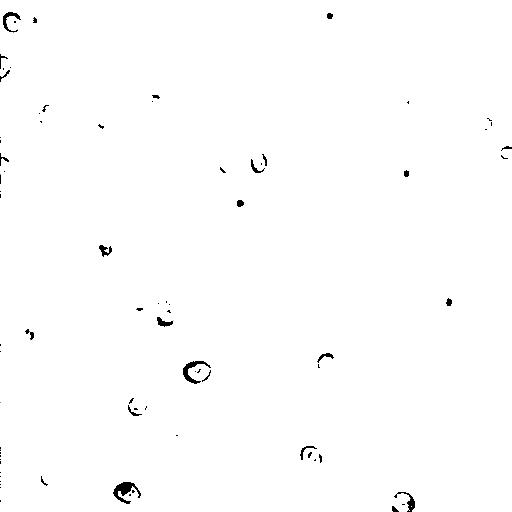micro-algae: (176, 318, 261, 401), (74, 143, 142, 211), (229, 348, 284, 402), (357, 249, 400, 292), (218, 128, 262, 167), (94, 376, 135, 415), (217, 475, 256, 512), (94, 396, 133, 430), (460, 266, 494, 304), (482, 471, 512, 512), (118, 297, 156, 328), (107, 471, 143, 503), (32, 99, 65, 133), (1, 145, 26, 188), (21, 10, 50, 42), (435, 283, 465, 313), (394, 309, 427, 336), (484, 7, 512, 38), (92, 108, 121, 137), (181, 360, 213, 385), (46, 339, 74, 367), (392, 158, 418, 188), (113, 481, 143, 506), (89, 169, 115, 197), (152, 300, 177, 328), (16, 324, 42, 349), (300, 445, 324, 471), (390, 490, 417, 512), (264, 100, 287, 124), (146, 442, 171, 464), (217, 153, 239, 176), (464, 78, 484, 103), (319, 5, 341, 27), (127, 396, 149, 418), (1, 12, 23, 33), (250, 150, 269, 174), (95, 235, 114, 258), (317, 352, 336, 372), (399, 93, 418, 113), (477, 116, 496, 136), (39, 470, 61, 487), (172, 423, 190, 440), (1, 55, 13, 80), (444, 73, 458, 89), (232, 195, 250, 207), (499, 145, 512, 161), (308, 504, 331, 512)
